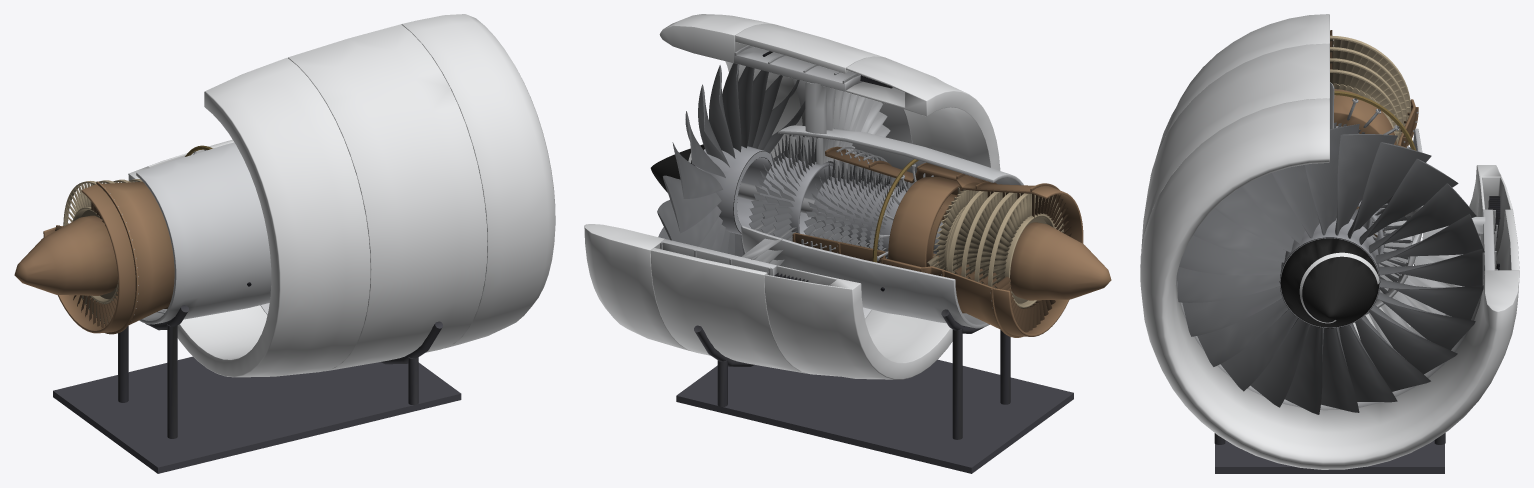
The picture shows the model from 3 angles, left to right: view 1: azimuth 30°, elevation 25°; view 2: azimuth 150°, elevation 25°; view 3: azimuth 270°, elevation 25°; orthographic projection. The views are drawn at different scales.
Visible parts, largest first — view 1: fan_cowl_right, thrust_reverser, stand, nacelle_inlet, core_cowl, core_case, exhaust, lp_turbine; view 2: stand, thrust_reverser, fan~ti, core_cowl, nacelle_inlet, fan_cowl_left, core_case, fan_case, lp_turbine, exhaust, hp_compressor, booster (+5 smaller); view 3: fan~ti, nacelle_inlet, fan_cowl_right, fan, thrust_reverser, lp_turbine, stand, fan_case, combustor, core_cowl, fan_cowl_left, booster (+3 smaller).
Boxes of the visible parts, box(x1,y1,x2,y2) form: fan_cowl_right: box(288, 24, 487, 371); thrust_reverser: box(128, 57, 370, 377); stand: box(53, 305, 461, 473); nacelle_inlet: box(401, 14, 555, 348); core_cowl: box(136, 142, 271, 324); core_case: box(43, 181, 174, 334); exhaust: box(14, 215, 117, 295); lp_turbine: box(63, 179, 142, 323); stand: box(676, 309, 1073, 473); thrust_reverser: box(764, 56, 1000, 379); fan~ti: box(657, 63, 805, 256); core_cowl: box(741, 125, 1023, 328); nacelle_inlet: box(584, 14, 802, 351); fan_cowl_left: box(650, 248, 808, 373); core_case: box(792, 146, 1083, 337); fan_case: box(660, 45, 912, 318); lp_turbine: box(948, 191, 1063, 308); exhaust: box(1010, 222, 1111, 300); hp_compressor: box(803, 159, 908, 258); booster: box(749, 134, 835, 240); fan~ti: box(1176, 124, 1484, 414); nacelle_inlet: box(1140, 98, 1519, 469); fan_cowl_right: box(1140, 43, 1329, 267); fan: box(1279, 237, 1380, 328); thrust_reverser: box(1150, 14, 1512, 339); lp_turbine: box(1330, 35, 1410, 144); stand: box(1214, 433, 1445, 473); fan_case: box(1176, 82, 1497, 410); combustor: box(1334, 89, 1396, 209); core_cowl: box(1366, 128, 1423, 314); fan_cowl_left: box(1495, 209, 1519, 270); booster: box(1358, 196, 1414, 302).
Size of the model in its own units: 3.12 by 2.14 by 1.98.
